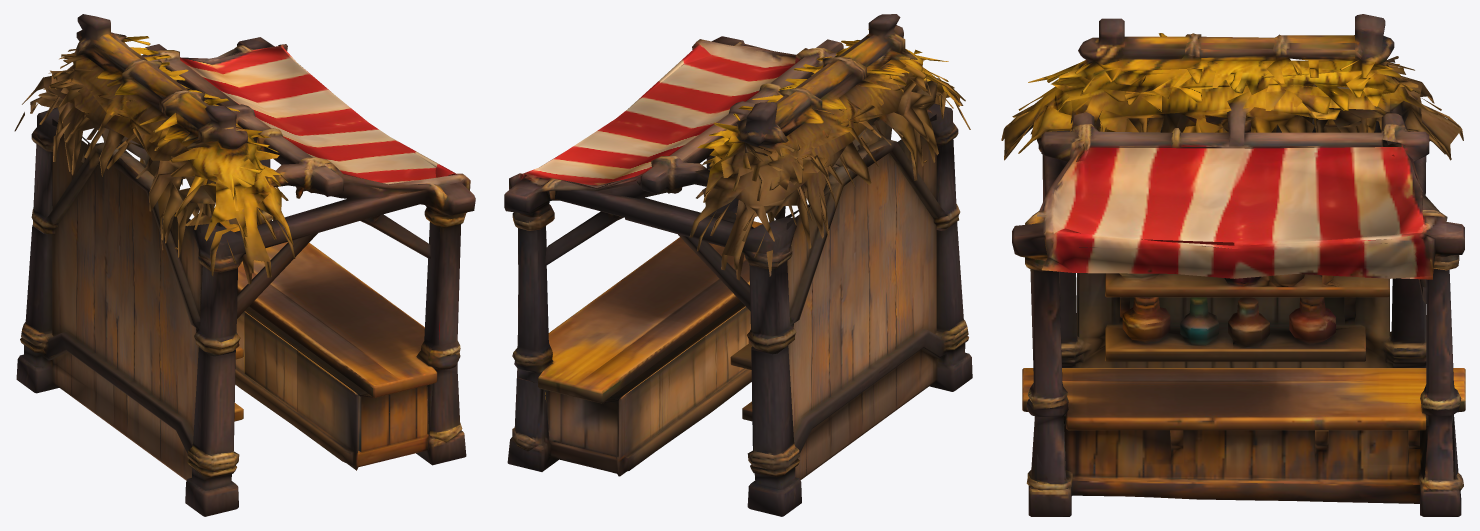
The model's file is market-stall-awning-v3-original.glb.
The picture shows the model from 3 angles, left to right: view 1: azimuth 30°, elevation 25°; view 2: azimuth 150°, elevation 25°; view 3: azimuth 270°, elevation 25°; orthographic projection. The views are drawn at different scales.
Parts seen in each view (by area): view 1: tripo_node_5936ca31-0466-43c7-94ca-a3486f93afa6; view 2: tripo_node_5936ca31-0466-43c7-94ca-a3486f93afa6; view 3: tripo_node_5936ca31-0466-43c7-94ca-a3486f93afa6.
Part boxes in pixels (bbox=[...]): tripo_node_5936ca31-0466-43c7-94ca-a3486f93afa6: bbox=[14, 14, 475, 516]; tripo_node_5936ca31-0466-43c7-94ca-a3486f93afa6: bbox=[504, 14, 972, 516]; tripo_node_5936ca31-0466-43c7-94ca-a3486f93afa6: bbox=[1001, 14, 1465, 516].
Size of the model in its own units: 0.728 by 0.9295 by 0.9941.
Materials: 1 (1 with a texture image).
